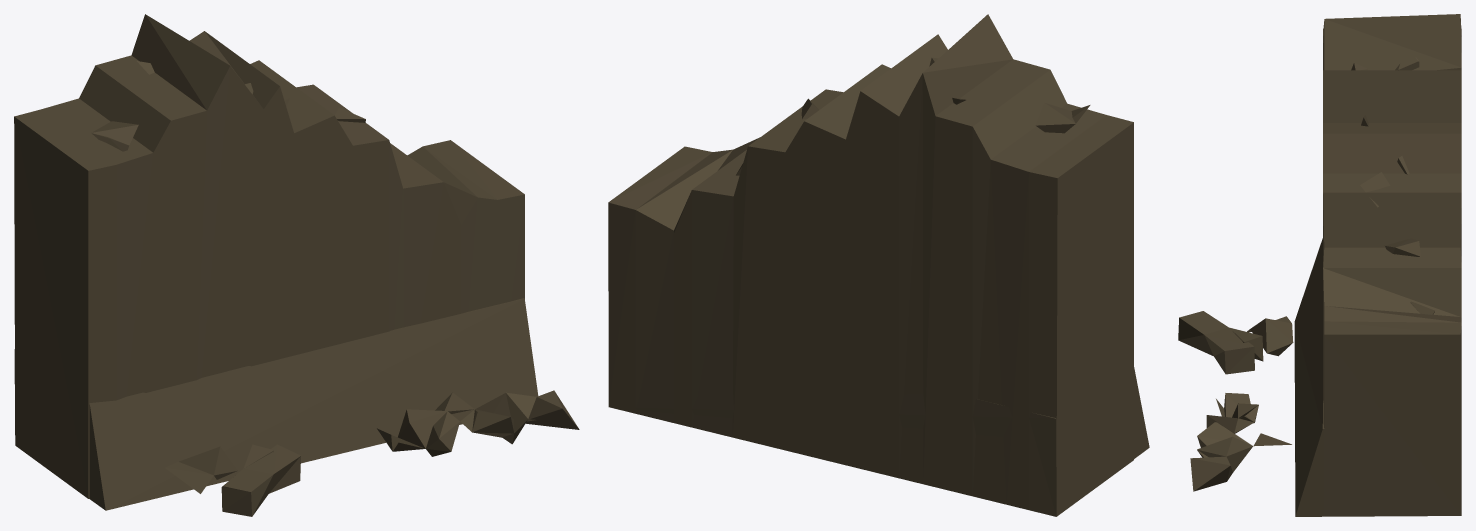
Rendered from castle-wall-ruined-b-lod1.glb.
3 renders of one model, left to right at view 1: azimuth 30°, elevation 25°; view 2: azimuth 150°, elevation 25°; view 3: azimuth 270°, elevation 25°, orthographic. The views are drawn at different scales.
Bounding box in the file's own units: 8 × 7 × 4.91.
